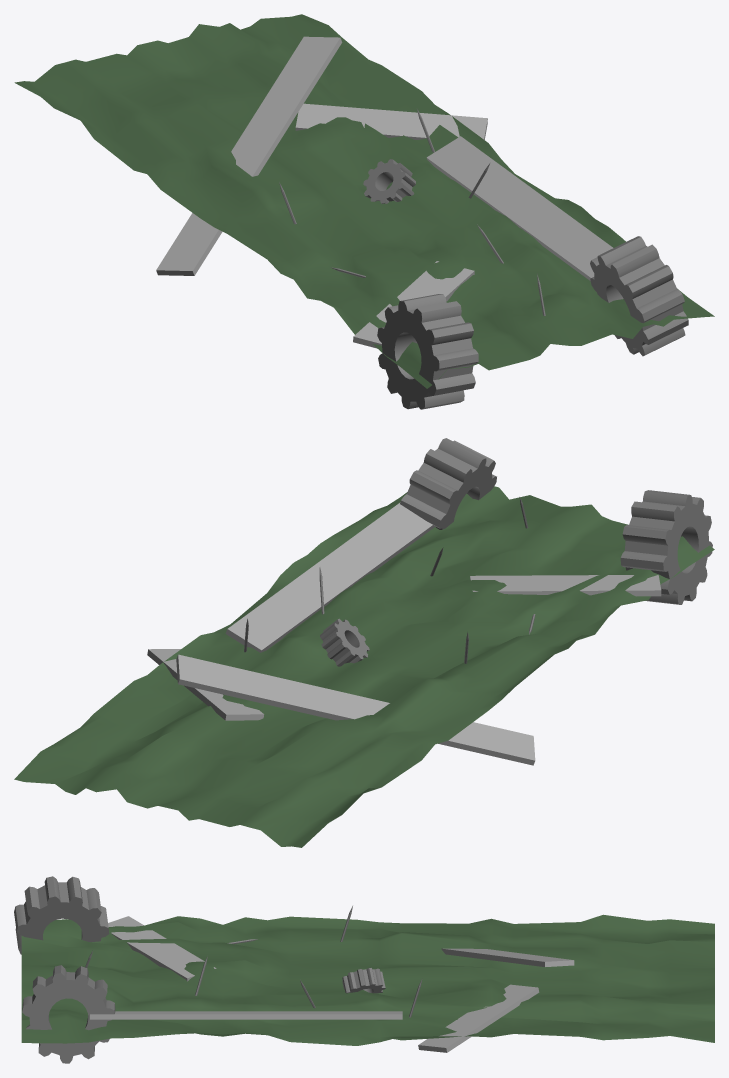
The model's file is Collapse.fbx.
3 views of the same model, one above another, from view 1: azimuth 30°, elevation 25°; view 2: azimuth 150°, elevation 25°; view 3: azimuth 270°, elevation 25° (orthographic). The views are drawn at different scales.
Visible parts, largest first — view 1: Collapse; view 2: Collapse; view 3: Collapse.
Part boxes in pixels (x1=…): Collapse: x1=14, y1=14, x2=714, y2=409; Collapse: x1=14, y1=438, x2=714, y2=847; Collapse: x1=14, y1=876, x2=714, y2=1063.
Size of the model in its own units: 0.0992 by 0.0287 by 0.1994.
